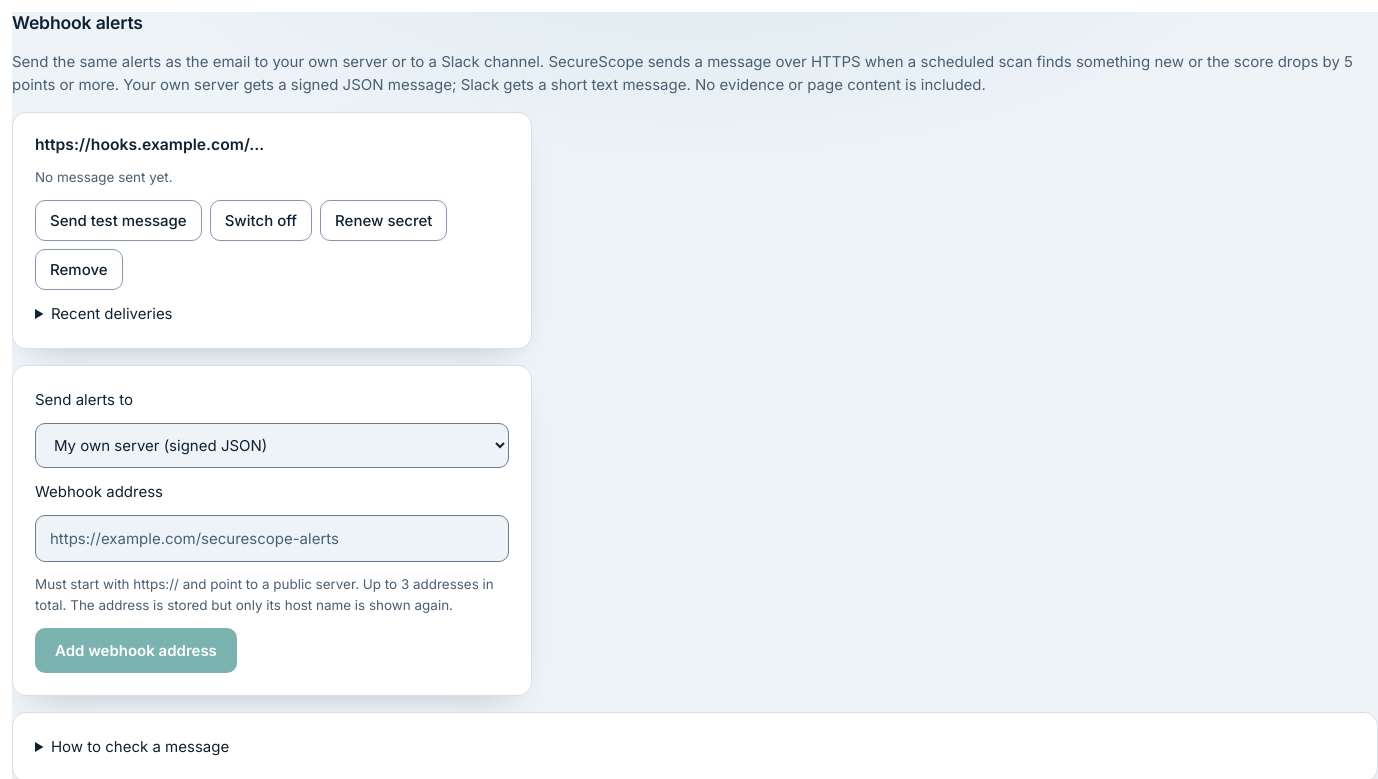
webhook alerts › lists the recent deliveries of an address when opened
Click the heading "Recent deliveries": (112, 314) [51,304,173,323]
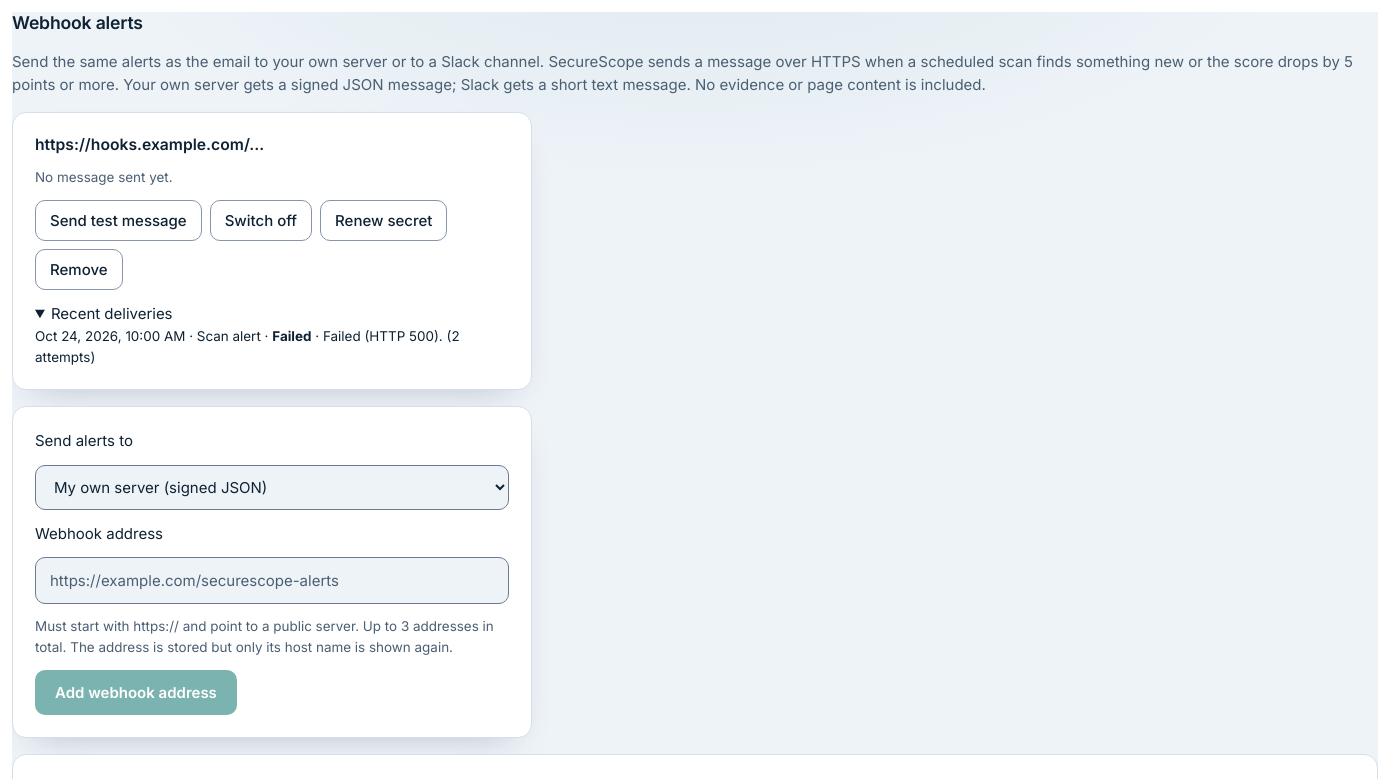
Check: the list item "Failed (HTTP 500)." is shown, box [323,328,443,344]
Check: the list item "Scan alert" is shown, box [197,328,261,344]
Check: the list item "2 attempts" is shown, box [35,328,460,364]
